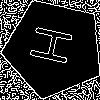H: (29, 23, 83, 70)
